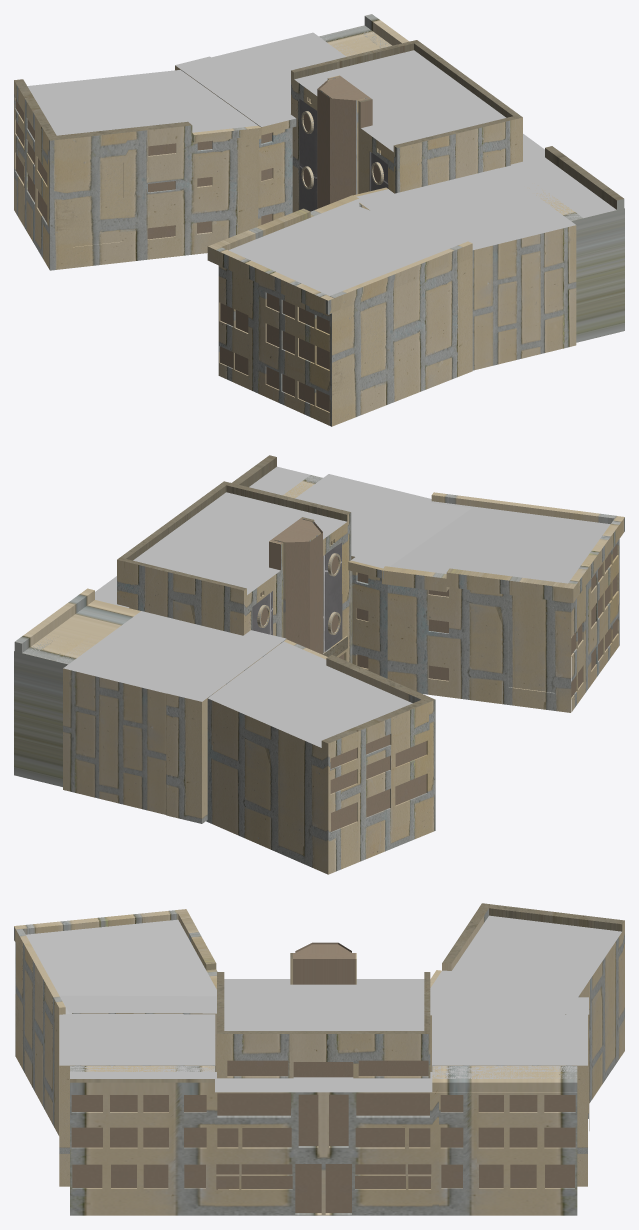
The model's file is Build_Ensani (1).fbx.
3 views of the same model, one above another, from view 1: azimuth 30°, elevation 25°; view 2: azimuth 150°, elevation 25°; view 3: azimuth 270°, elevation 25° (orthographic).
Parts seen in each view (by area): view 1: Build.002; view 2: Build.002; view 3: Build.002.
Boxes of the visible parts, x1=… form: Build.002: x1=14, y1=14, x2=624, y2=426; Build.002: x1=14, y1=455, x2=624, y2=874; Build.002: x1=14, y1=903, x2=624, y2=1215.
Size of the model in its own units: 8571 by 6024 by 3008.
